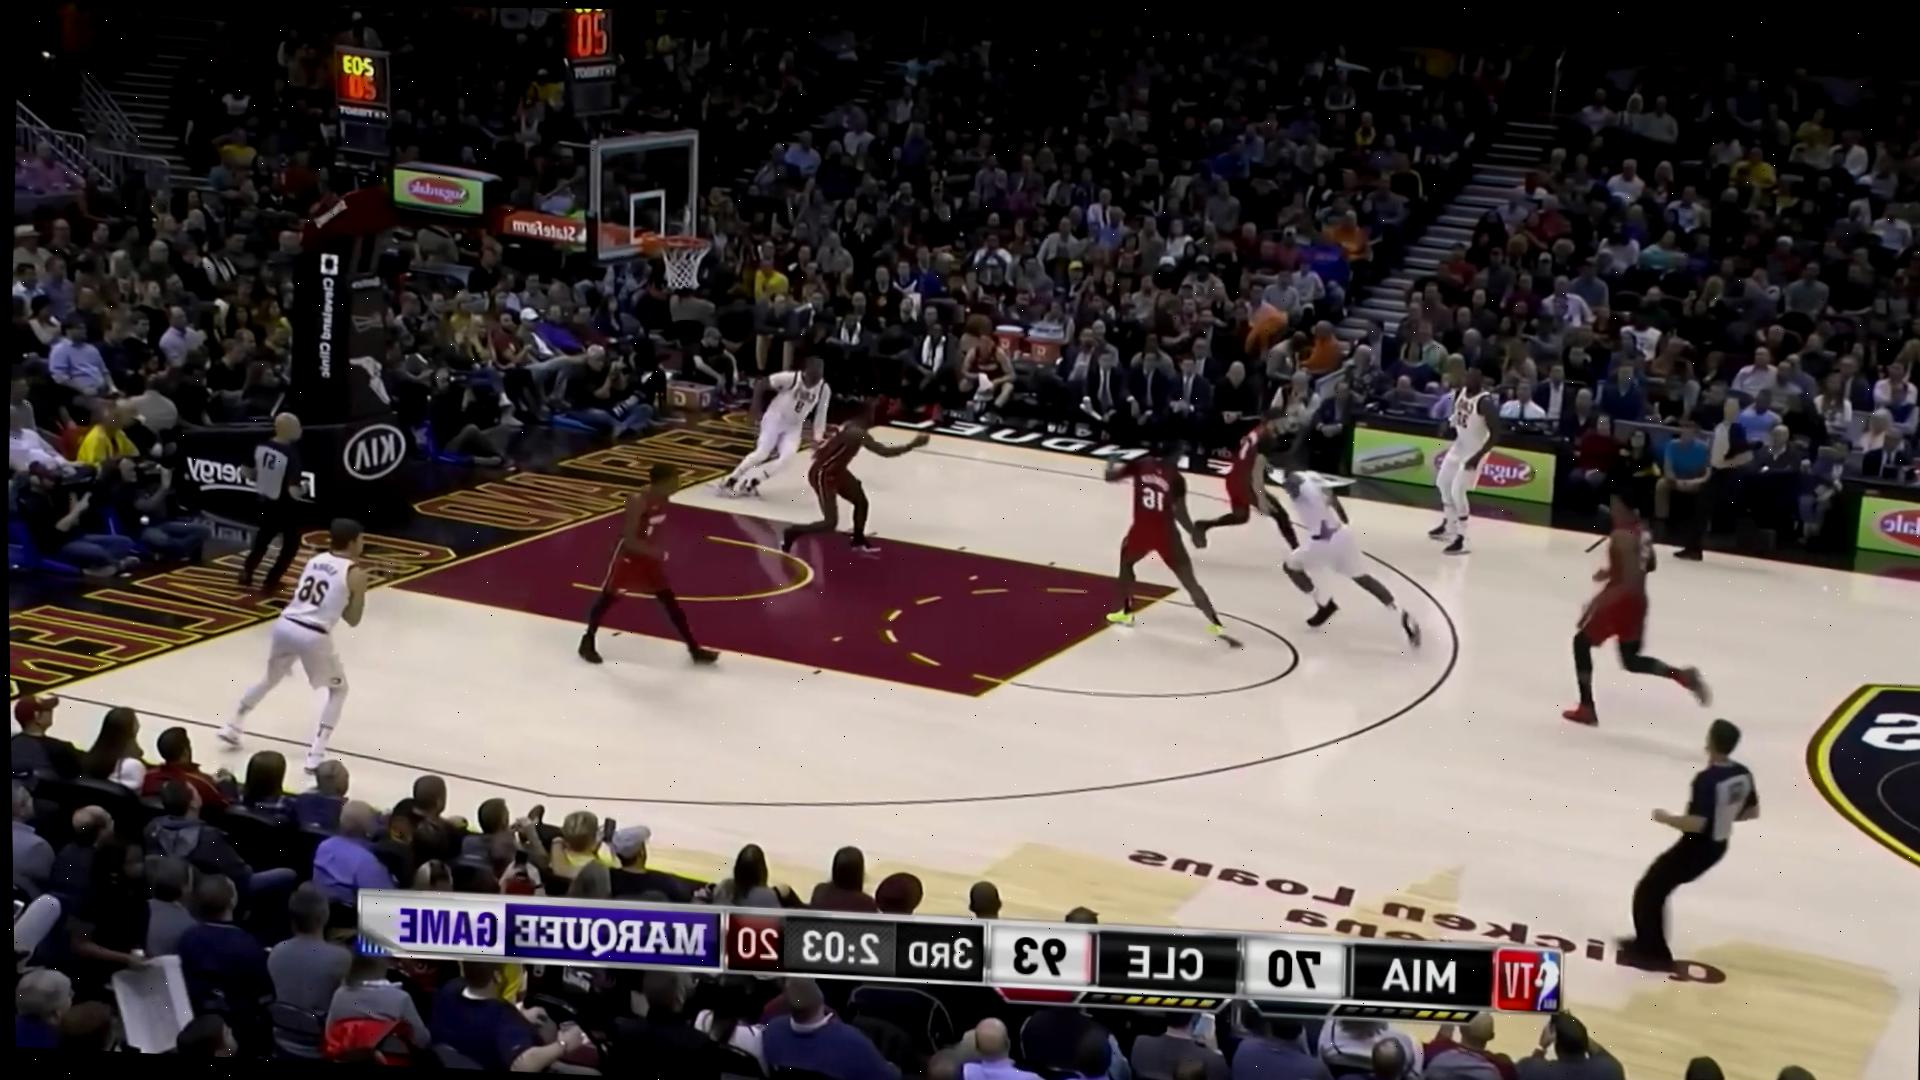no_foul: (1105, 418, 1419, 671)
